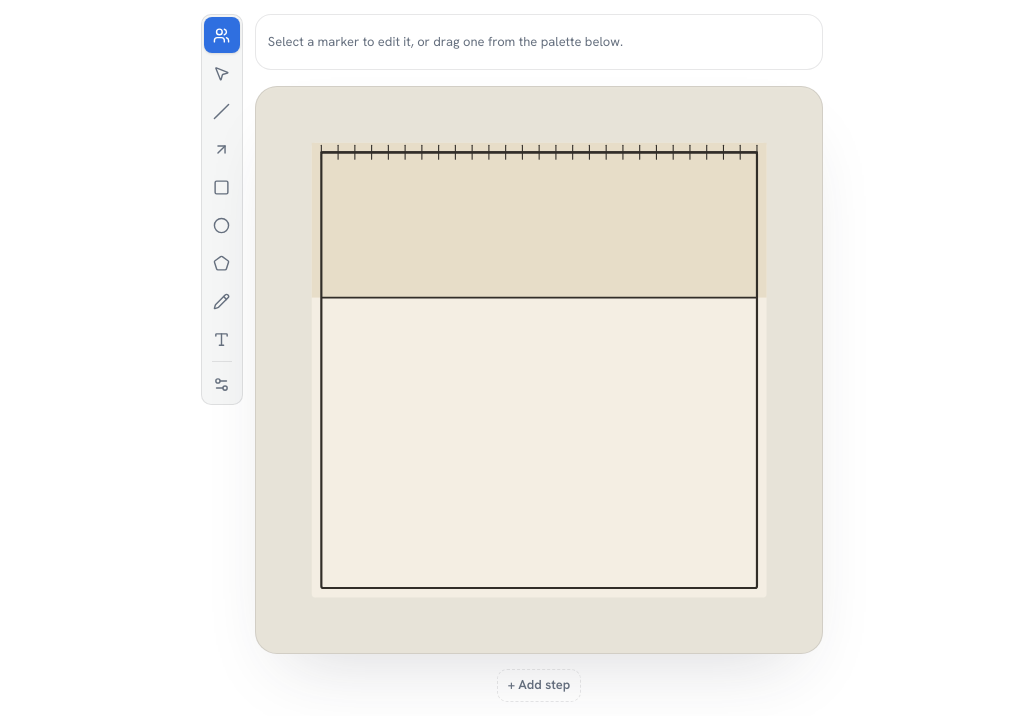
BoardEditor court settings › the popover holds the mode, grid, and snap controls; auto arrows only on a sequence
This screenshot has width=1024, height=716.
(page scrolled)
Click the button named "Court settings" at (222, 384), box x1=204 y1=366 x2=240 y2=402
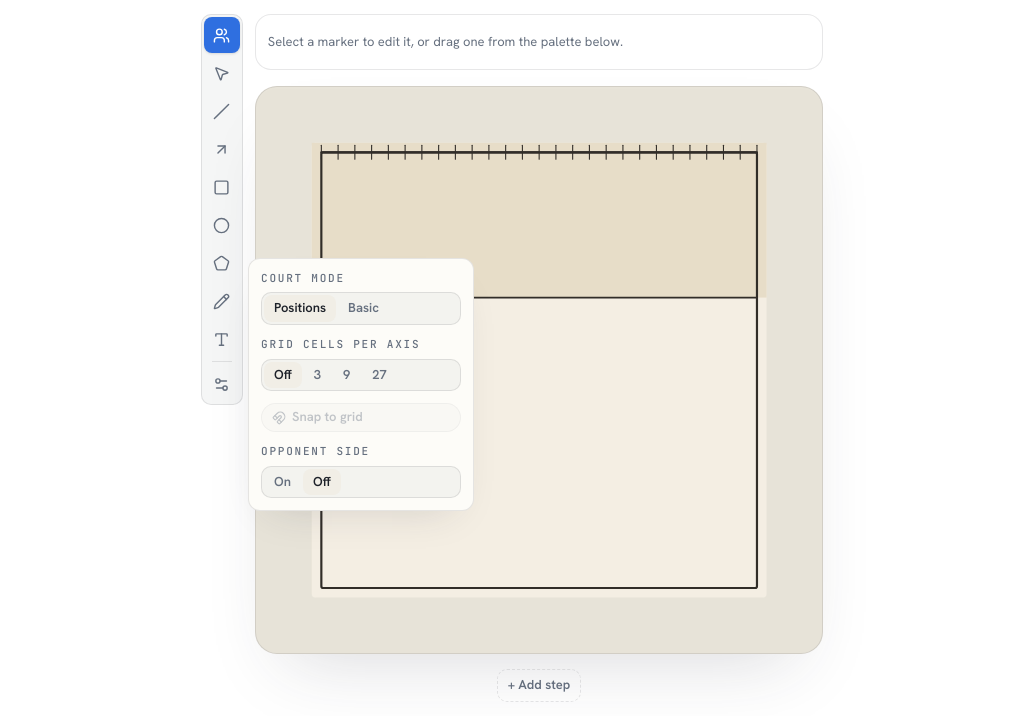
Result: the button "Basic" is shown at x1=338 y1=296 x2=389 y2=322
Result: the button "27" is shown at x1=362 y1=362 x2=397 y2=388
Result: the button "Snap to grid" is shown at x1=261 y1=404 x2=461 y2=432
Press Escape
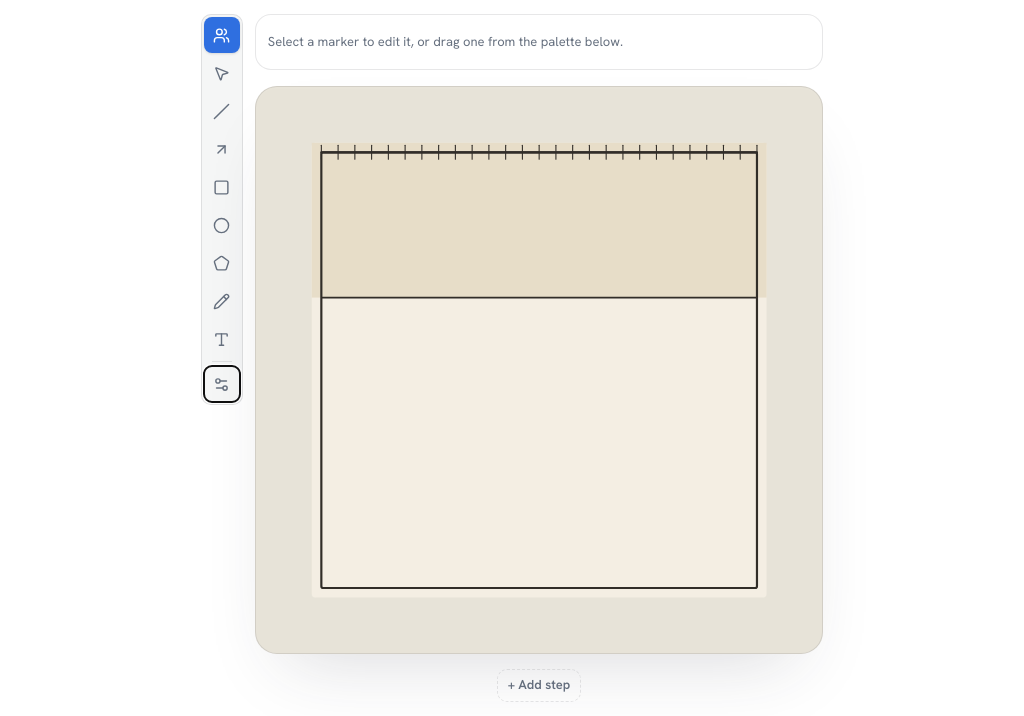
Click the button "+ Add step" at (539, 686), box x1=497 y1=669 x2=581 y2=702
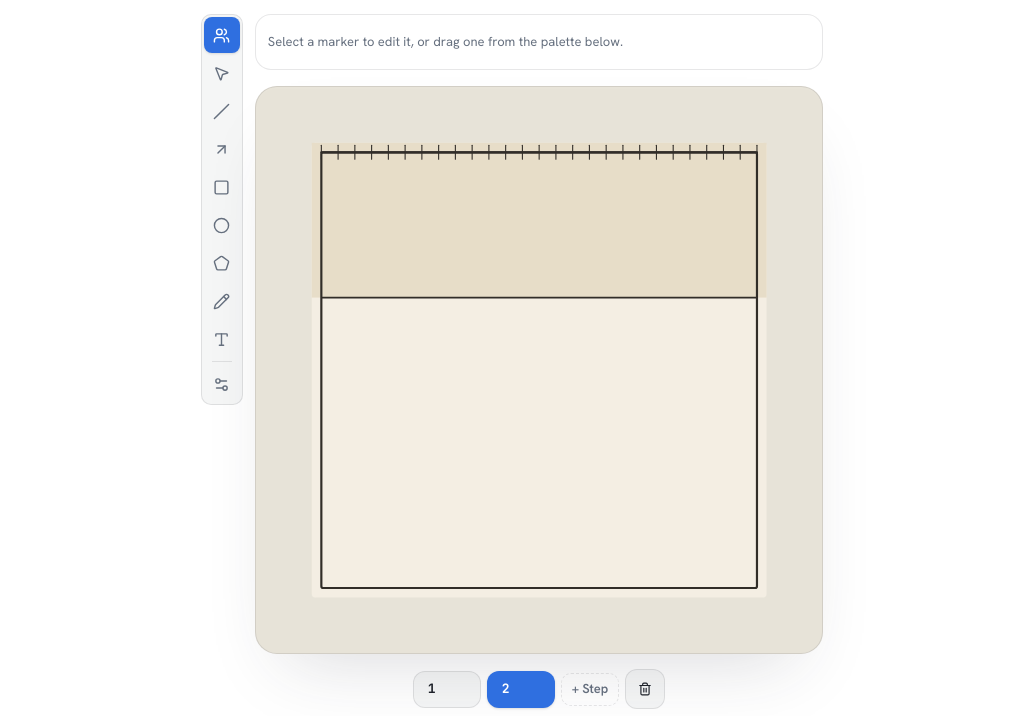
Click the button named "Court settings" at (222, 384), box x1=204 y1=366 x2=240 y2=402
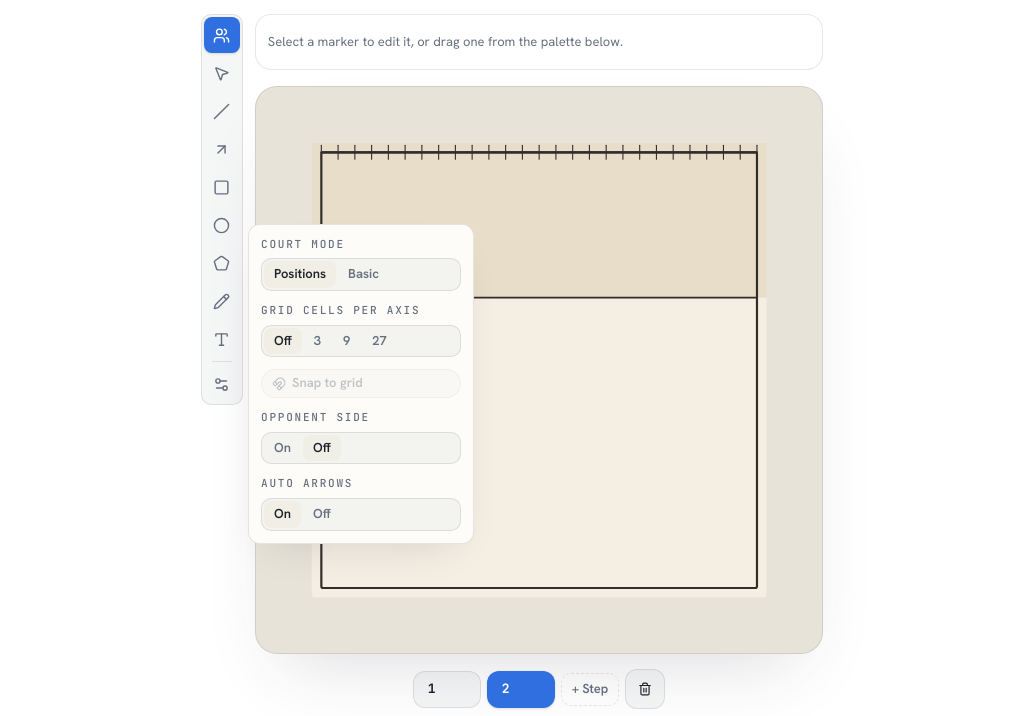
Result: the text "Auto arrows" is shown at x1=261 y1=476 x2=353 y2=490
